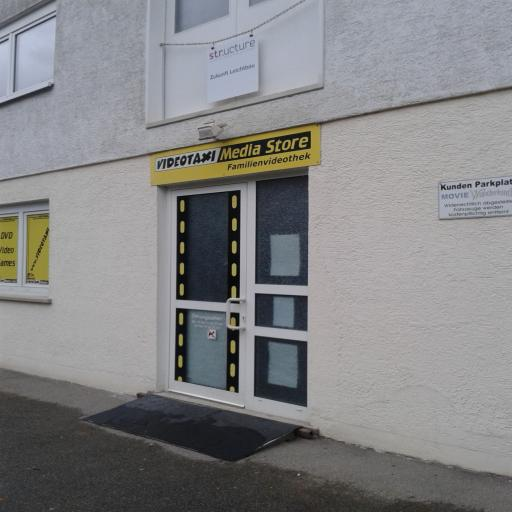ramp: (76, 394, 303, 461)
